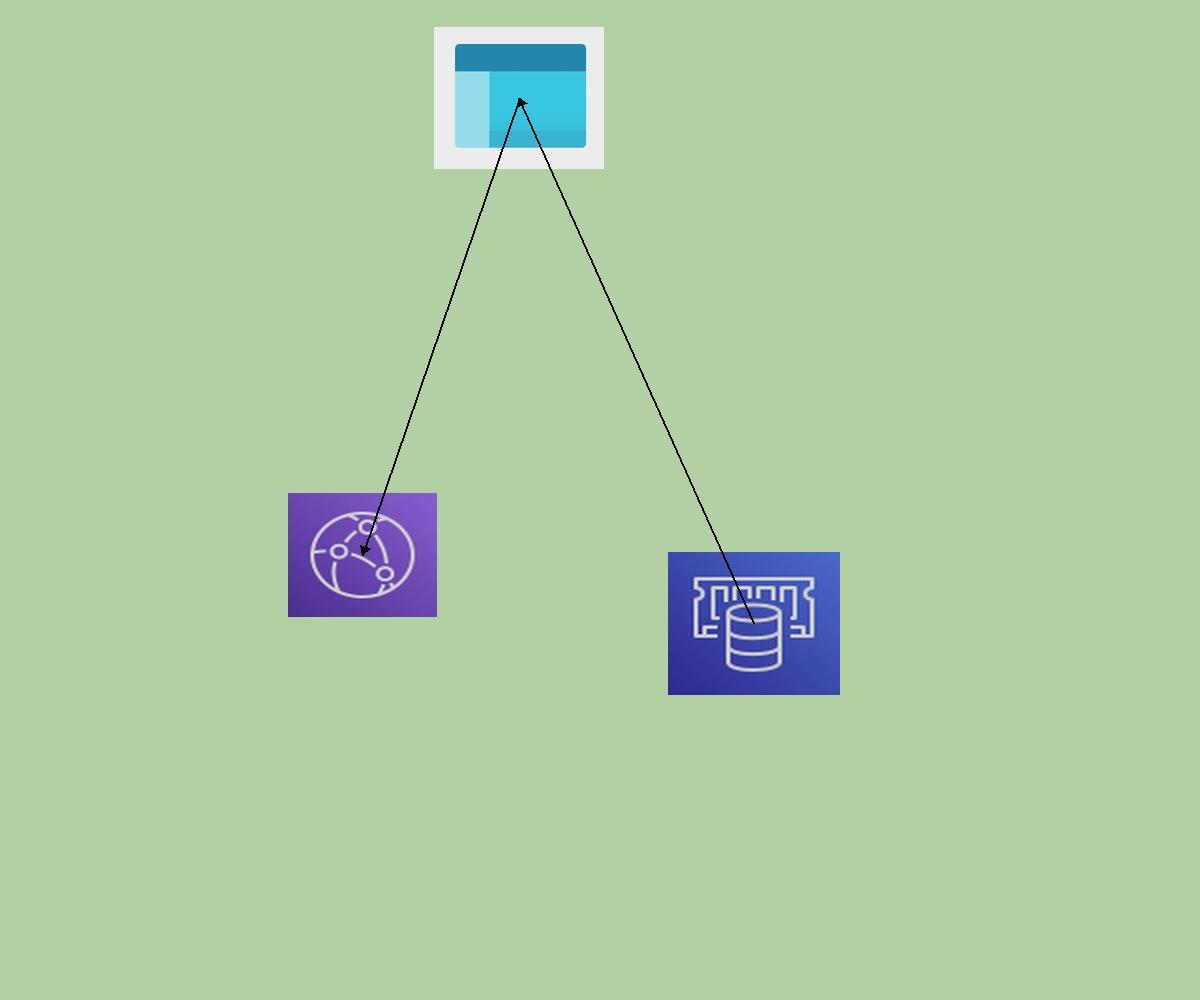AWS-CloudFront: (288, 493, 437, 617)
AWS-ElastiCache: (668, 552, 840, 695)
Azure_management-portal: (434, 27, 604, 169)
